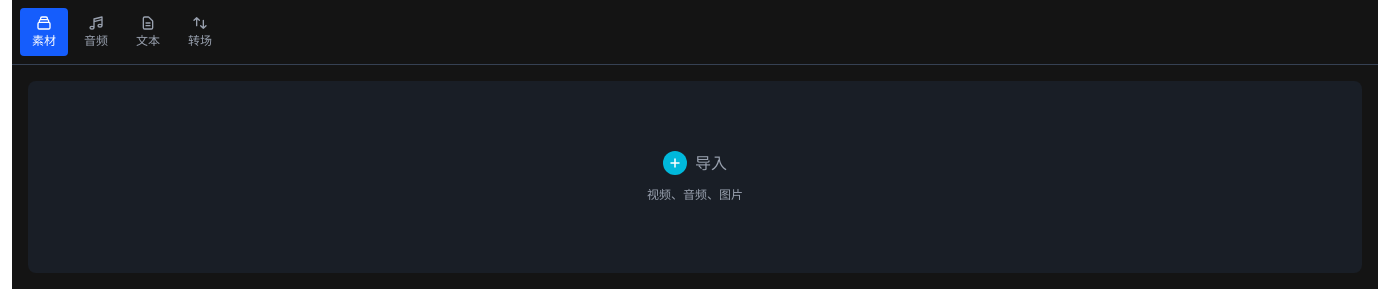
Test: MediaLibrary › 6.1.5 测试文件夹显示 › should display folder with folder icon
This screenshot has width=1378, height=306.
Right-click the element showing "导入 视频、音频、图片" at (695, 177), box [28,81,1362,273]
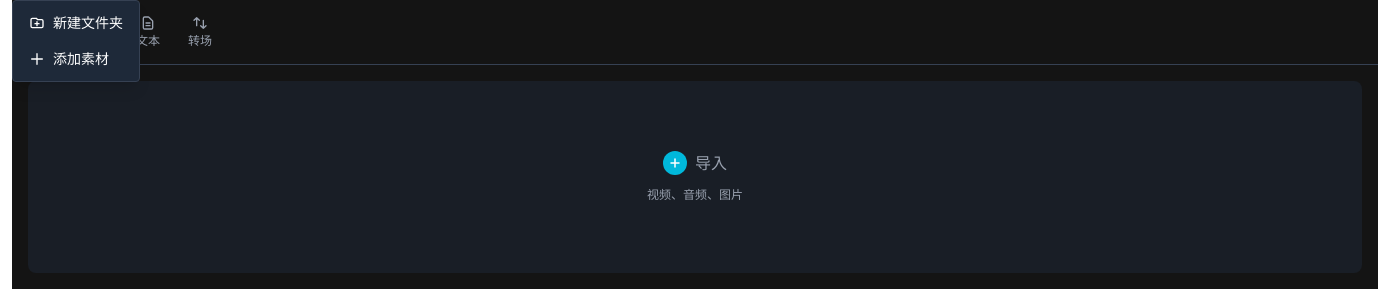
Click the button "新建文件夹" at (76, 23), box [13,5,139,41]
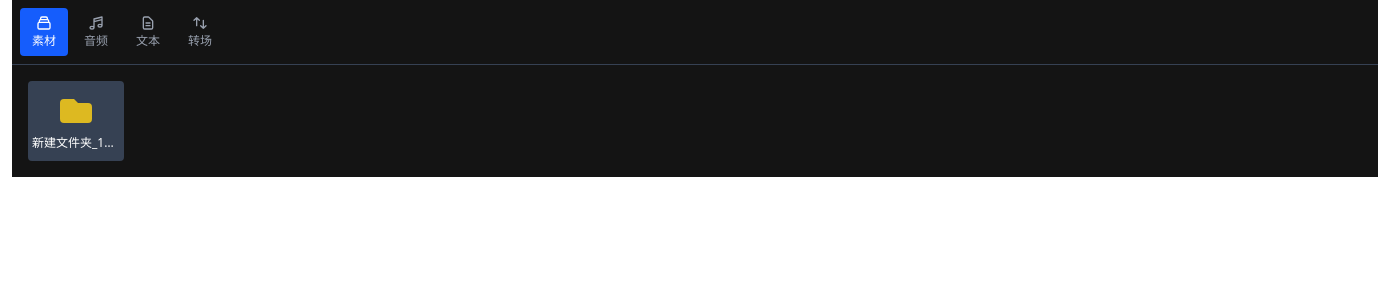
Expected: the icon with id "DDB921" is shown, [56,91,96,131]
